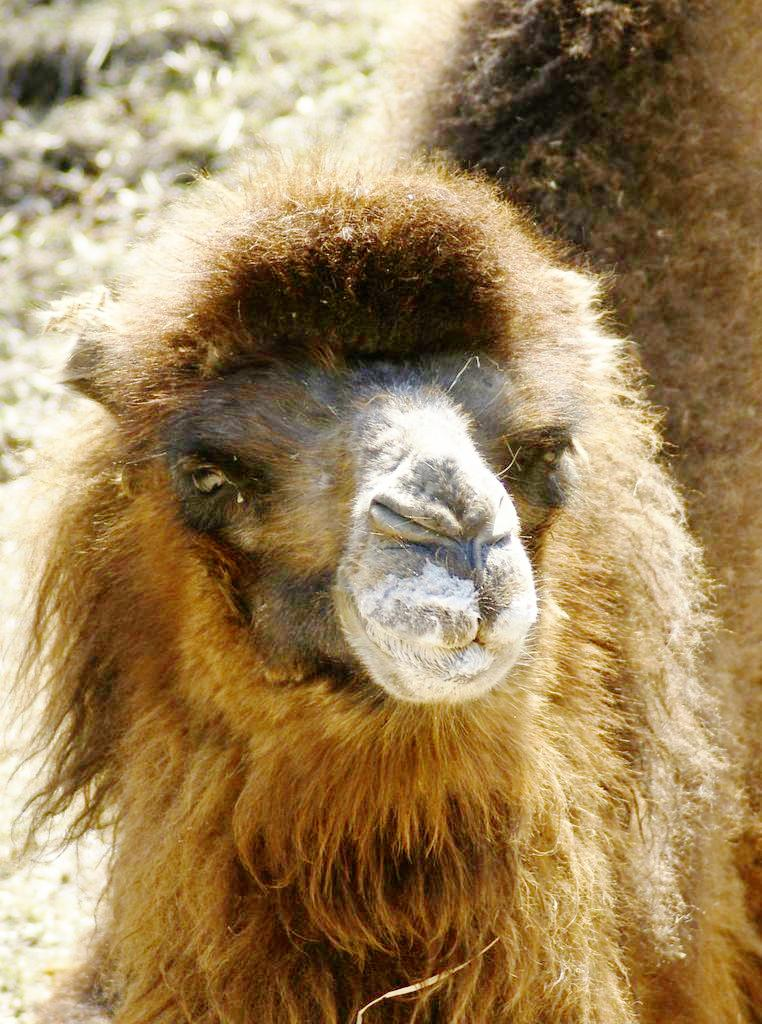Sheep: (10, 96, 762, 999)
